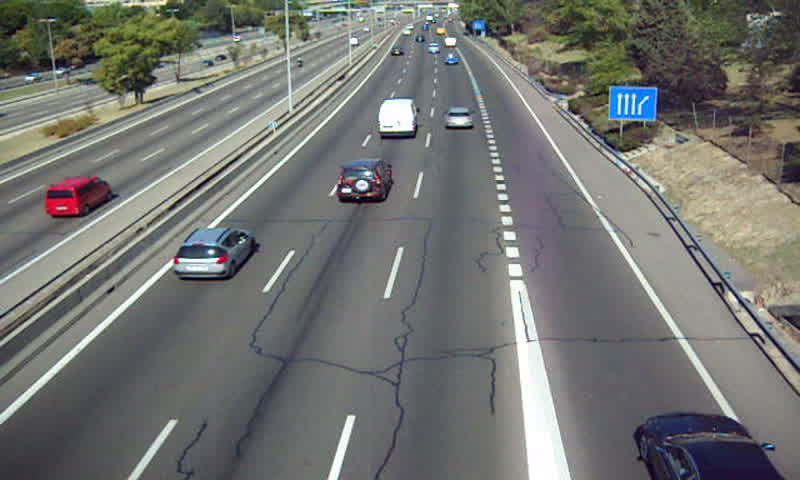car: (173, 228, 254, 281), (337, 160, 391, 203), (443, 108, 474, 129)
van: (378, 99, 419, 138)
